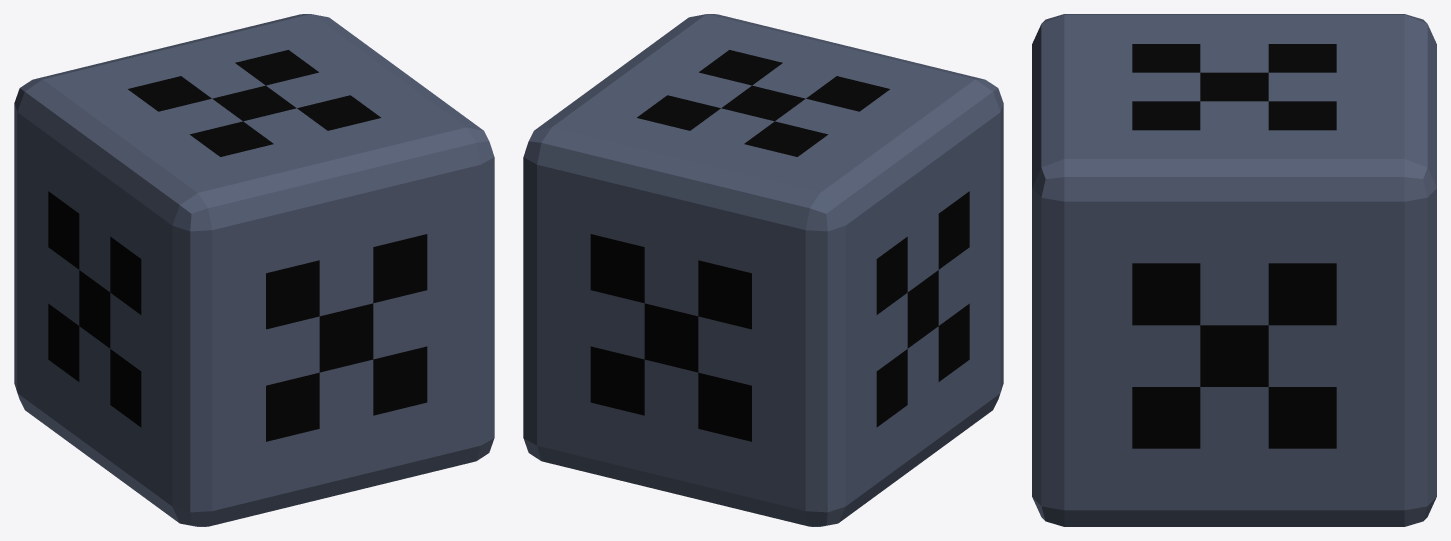
Rendered from constant_blue.fbx.
3 views of the same model, side by side, from view 1: azimuth 30°, elevation 25°; view 2: azimuth 150°, elevation 25°; view 3: azimuth 270°, elevation 25° (orthographic). The views are drawn at different scales.
Parts seen in each view (by area): view 1: Cube; view 2: Cube; view 3: Cube.
Boxes of the visible parts, x1=… form: Cube: x1=14, y1=14, x2=494, y2=526; Cube: x1=523, y1=14, x2=1003, y2=526; Cube: x1=1032, y1=14, x2=1436, y2=526.
Bounding box in the file's own units: 200 × 200 × 200.
